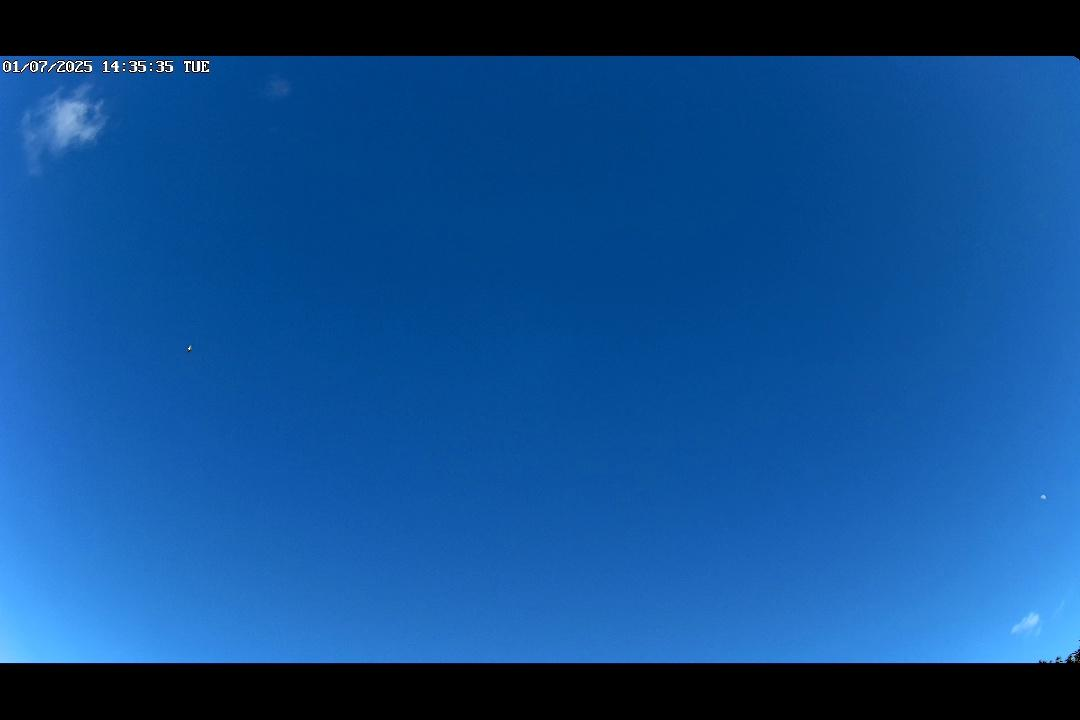WildLife: (181, 343, 198, 353)
